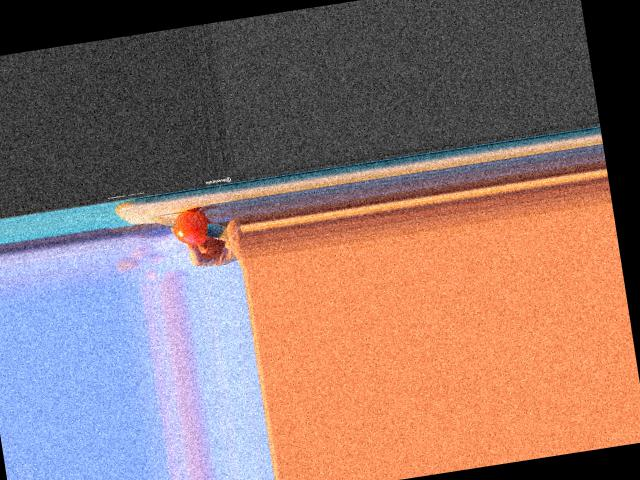tomato: (170, 206, 211, 247)
